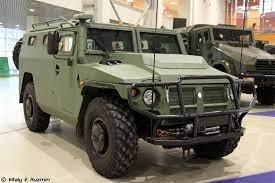armored_car: (18, 10, 256, 178), (182, 19, 275, 99)
